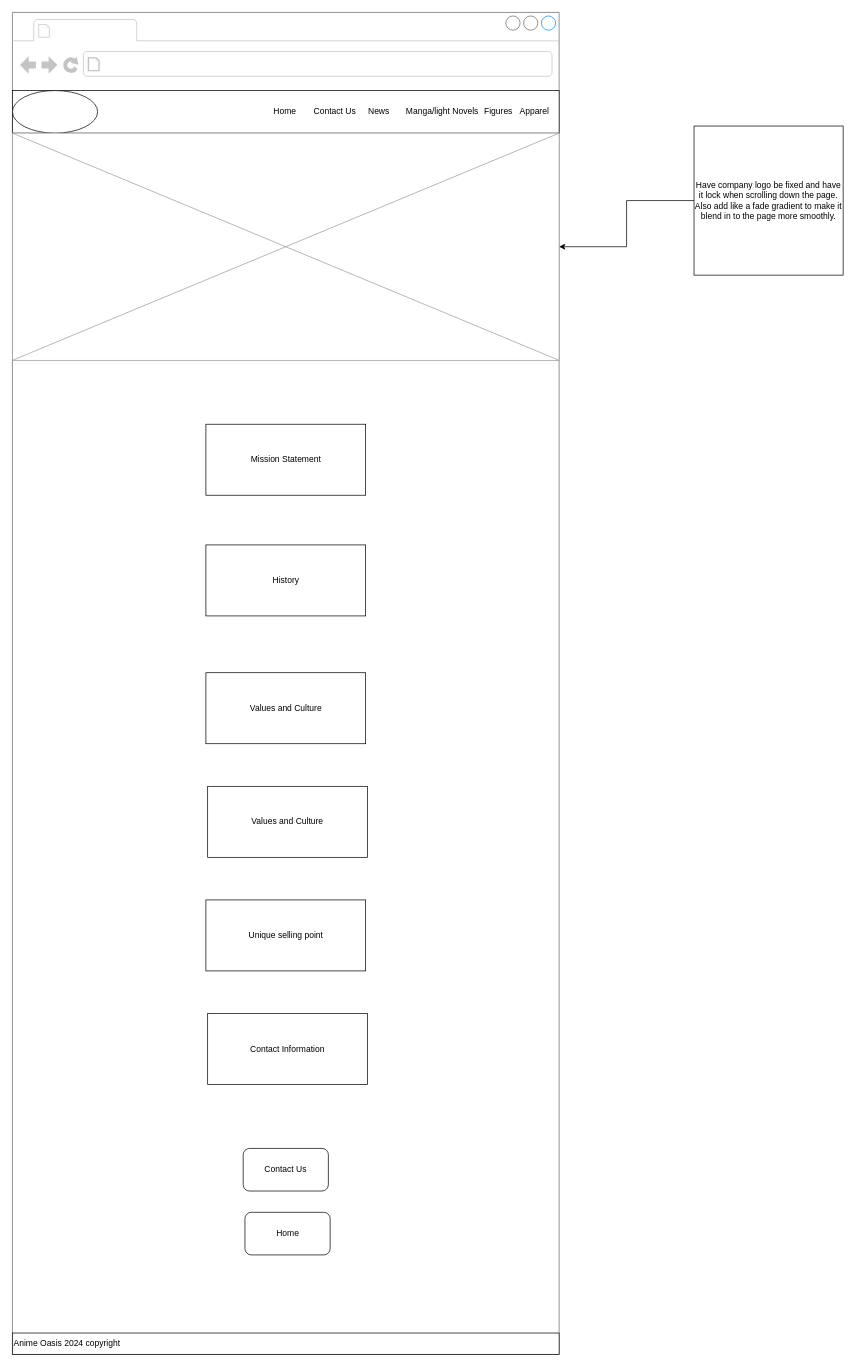
Image size: 856x1367. Some labels were removed from this diagram. The centre of each missing label's shape, as x and y in pixels:
"ANIME OASIS" belongs at (x=55, y=111).
"https://www.draw.io" belongs at (x=193, y=63).
"Page 1" belongs at (x=93, y=29).
